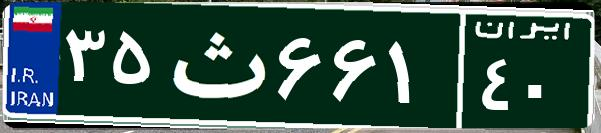0: (525, 38, 570, 115)
1: (385, 28, 445, 110)
3: (57, 26, 110, 107)
4: (475, 38, 525, 113)
5: (110, 28, 158, 105)
6: (273, 28, 330, 110), (330, 28, 385, 110)
ث: (158, 15, 273, 115)
